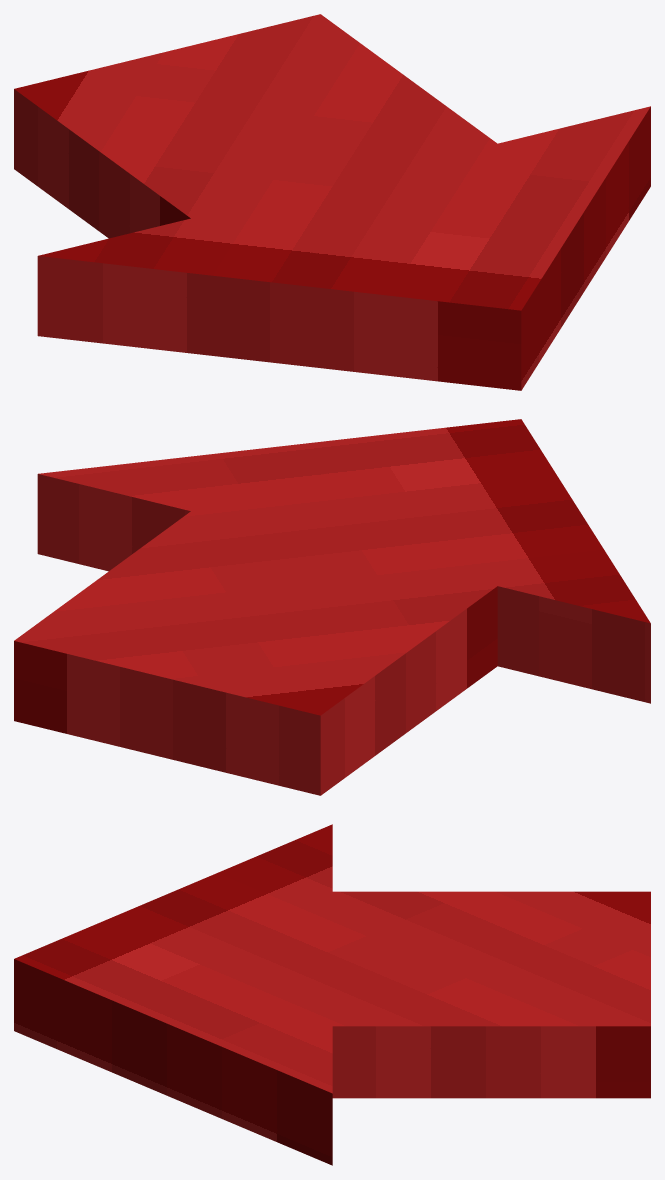
File: arrow.obj
The picture shows the model from 3 angles, top to bottom: view 1: azimuth 30°, elevation 25°; view 2: azimuth 150°, elevation 25°; view 3: azimuth 270°, elevation 25°; orthographic projection. The views are drawn at different scales.
Parts seen in each view (by area): view 1: arrow; view 2: arrow; view 3: arrow.
Boxes of the visible parts, x1=… form: arrow: x1=14, y1=14, x2=650, y2=390; arrow: x1=14, y1=419, x2=650, y2=795; arrow: x1=14, y1=824, x2=650, y2=1165.
Bounding box in the file's own units: 1 × 0.125 × 1.
